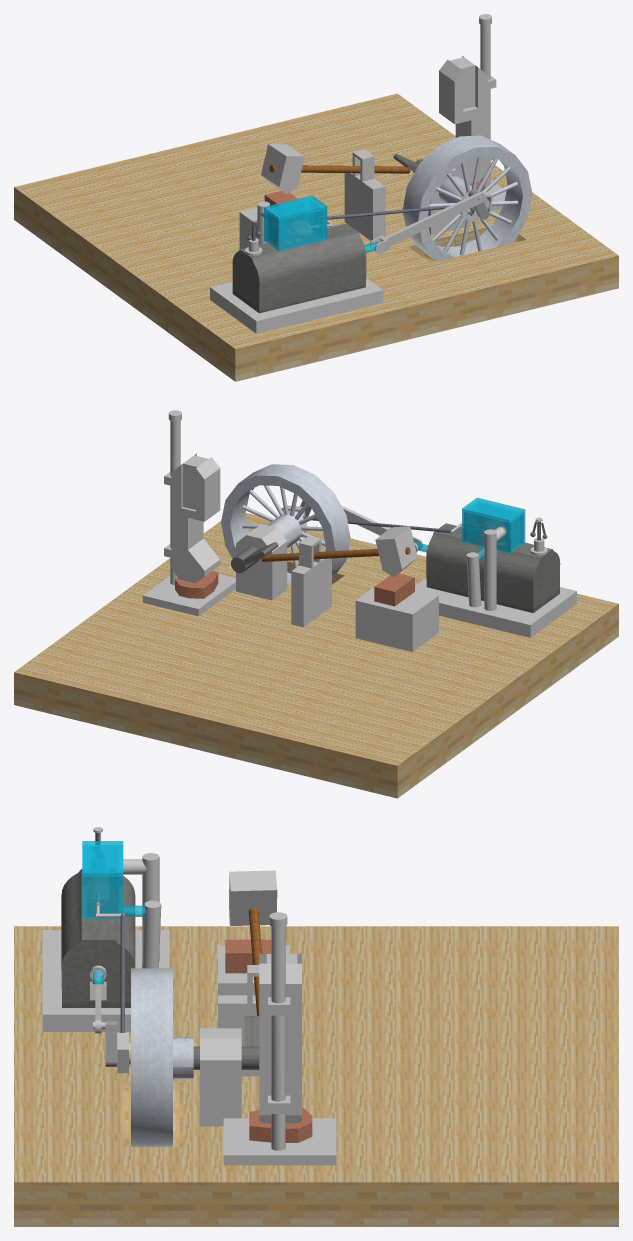
Rendered from Steam EngineV2_6.dae.
3 renders of one model, top to bottom at view 1: azimuth 30°, elevation 25°; view 2: azimuth 150°, elevation 25°; view 3: azimuth 270°, elevation 25°, orthographic. The views are drawn at different scales.
Parts seen in each view (by area): view 1: floor_001, flywheel_001, pistonchamber_001, mesh39-Node_001_0, mesh63-Node_001_0, mesh99-Node_001_0, mesh1-Node_001_00, hammerhead_001, mesh6-Node_001_00, mesh128-Node_001_, mesh16-Node_001_0, hammershaft_001 (+5 smaller); view 2: floor_001, flywheel_001, pistonchamber_001, mesh43-Node_001_0, mesh39-Node_001_0, mesh63-Node_001_0, mesh89-Node_001_0, mesh99-Node_001_0, mesh14-Node_001_0, hammerhead_001, mesh68-Node_001_0, mesh128-Node_001_ (+9 smaller); view 3: floor_001, flywheel_001, pistonchamber_001, mesh39-Node_001_0, mesh89-Node_001_0, mesh14-Node_001_0, mesh72-Node_001_0, mesh63-Node_001_0, hammerhead_001, mesh16-Node_001_0, mesh69-Node_001_0, mesh99-Node_001_0 (+12 smaller).
Part boxes in pixels (x1,y1,x2,y2): floor_001: [14, 93, 618, 381]; flywheel_001: [402, 135, 532, 261]; pistonchamber_001: [232, 223, 366, 313]; mesh39-Node_001_0: [210, 278, 383, 333]; mesh63-Node_001_0: [439, 56, 487, 124]; mesh99-Node_001_0: [344, 173, 385, 240]; mesh1-Node_001_00: [277, 208, 327, 251]; hammerhead_001: [261, 144, 304, 194]; mesh6-Node_001_00: [385, 191, 485, 246]; mesh128-Node_001_: [264, 199, 312, 241]; mesh16-Node_001_0: [264, 195, 327, 220]; hammershaft_001: [269, 165, 410, 173]; floor_001: [14, 513, 618, 798]; flywheel_001: [221, 464, 350, 583]; pistonchamber_001: [426, 523, 560, 613]; mesh43-Node_001_0: [355, 587, 438, 651]; mesh39-Node_001_0: [415, 578, 576, 637]; mesh63-Node_001_0: [171, 453, 220, 521]; mesh89-Node_001_0: [236, 524, 287, 600]; mesh99-Node_001_0: [291, 551, 331, 627]; mesh14-Node_001_0: [143, 574, 235, 616]; hammerhead_001: [375, 526, 417, 576]; mesh68-Node_001_0: [171, 538, 220, 583]; mesh128-Node_001_: [462, 510, 511, 553]; floor_001: [14, 926, 618, 1226]; flywheel_001: [131, 968, 193, 1146]; pistonchamber_001: [61, 869, 135, 1007]; mesh39-Node_001_0: [42, 930, 169, 1031]; mesh89-Node_001_0: [200, 1028, 241, 1126]; mesh14-Node_001_0: [223, 1118, 336, 1165]; mesh72-Node_001_0: [271, 926, 285, 1150]; mesh63-Node_001_0: [259, 953, 301, 1040]; hammerhead_001: [229, 870, 277, 925]; mesh16-Node_001_0: [82, 841, 123, 876]; mesh69-Node_001_0: [259, 1040, 301, 1084]; mesh99-Node_001_0: [218, 995, 259, 1076].
Size of the model in its own units: 25.4 by 25.4 by 13.26.
